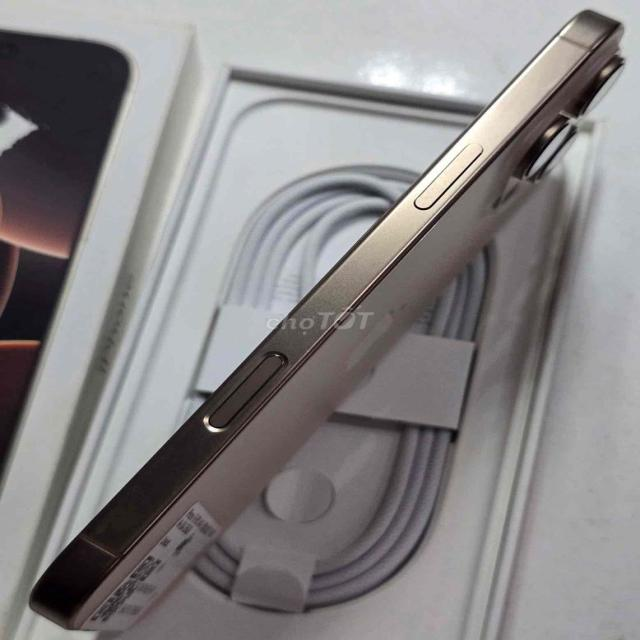gen_16: (30, 6, 627, 634)
